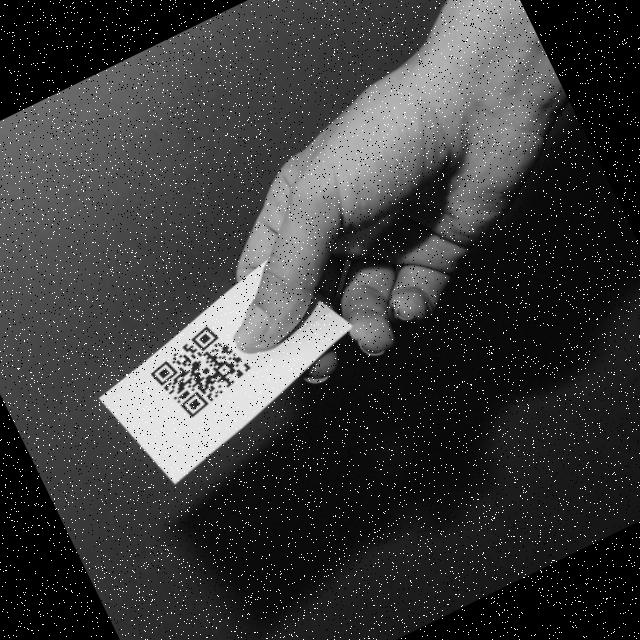QR-codes: (149, 320, 256, 422)
